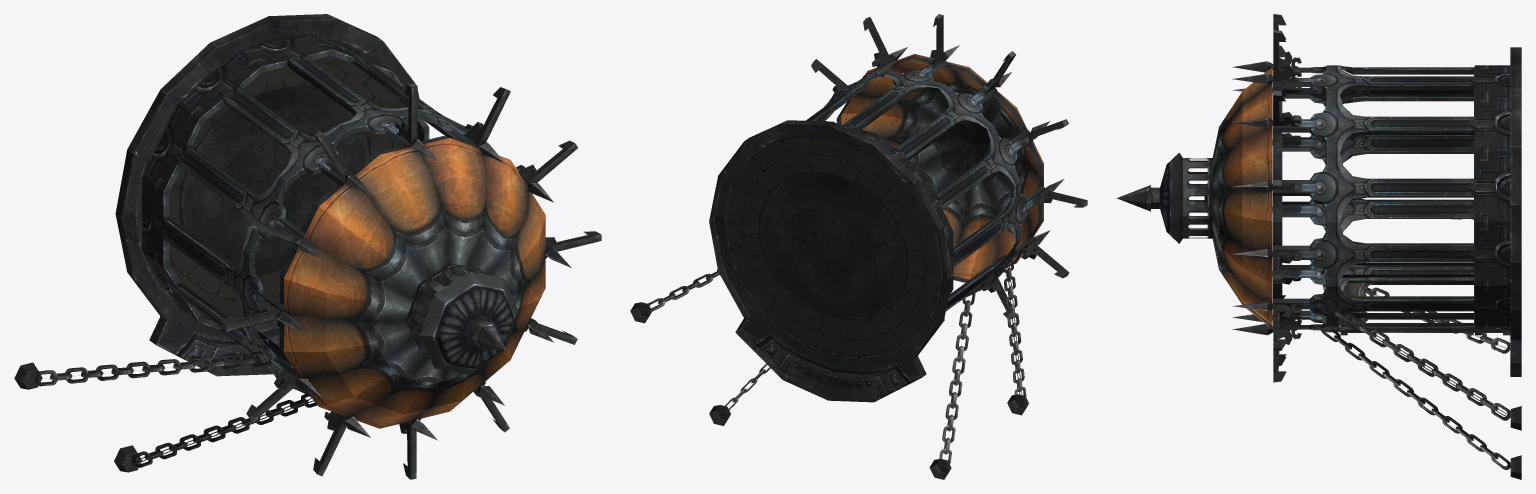
File: zhucheng_yewai_370_shoulong01.obj
3 views of the same model, side by side, from view 1: azimuth 30°, elevation 25°; view 2: azimuth 150°, elevation 25°; view 3: azimuth 270°, elevation 25° (orthographic). The views are drawn at different scales.
Parts seen in each view (by area): view 1: Object18; view 2: Object18; view 3: Object18.
Boxes of the visible parts, <box> form: Object18: <box>14,14,601,479</box>; Object18: <box>630,14,1087,479</box>; Object18: <box>1117,14,1521,479</box>.
Bounding box in the file's own units: 450 × 384 × 364.
Materials: 3 (3 with a texture image).
